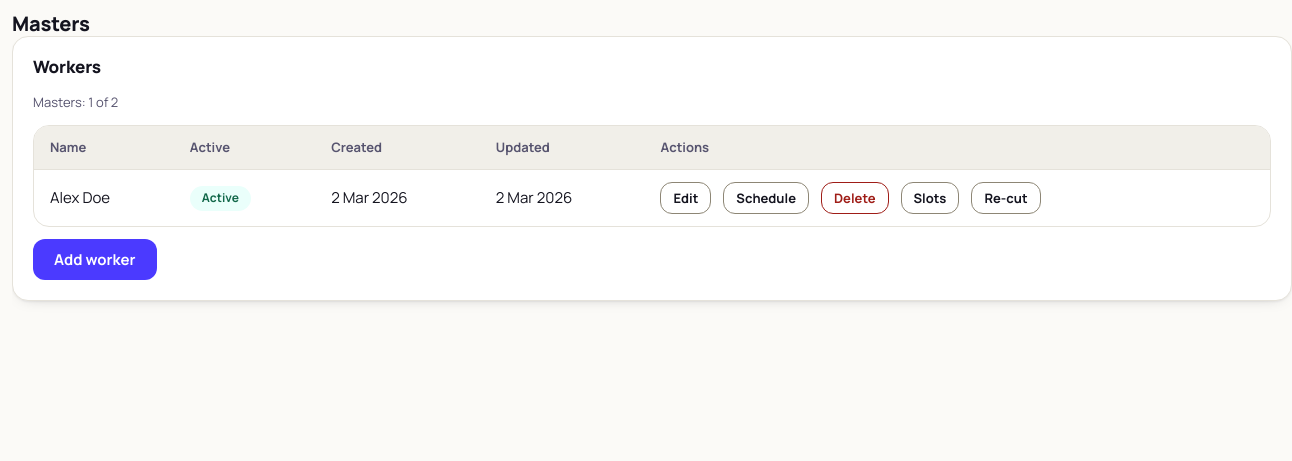
the workers screen › deletes a worker after confirming, and reloads the table
Click the button "Delete".
click(855, 198)  # box top-left (821, 182), bottom-right (888, 214)
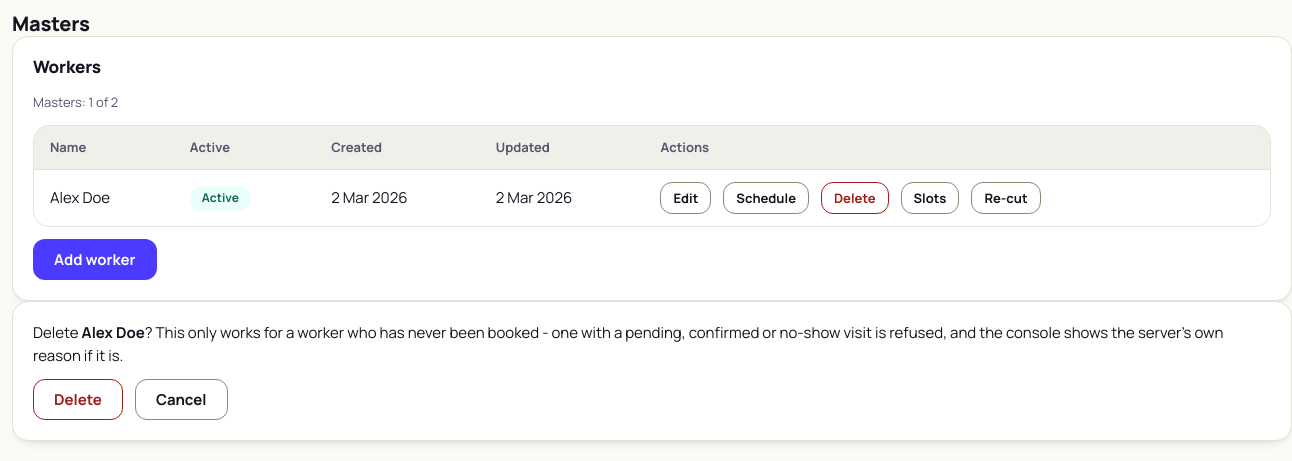
expect the text "never been booked" is shown: met, box top-left (33, 322), bottom-right (1223, 366)
Click the 2nd button "Delete".
click(78, 400)  # box top-left (33, 379), bottom-right (123, 420)
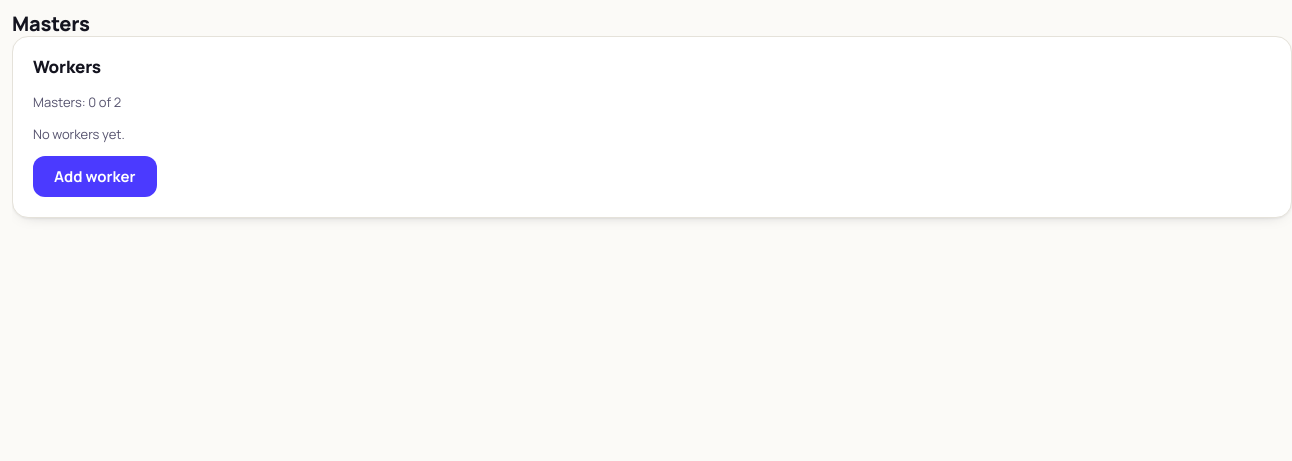
expect the text "Alex Doe" is gone: met
